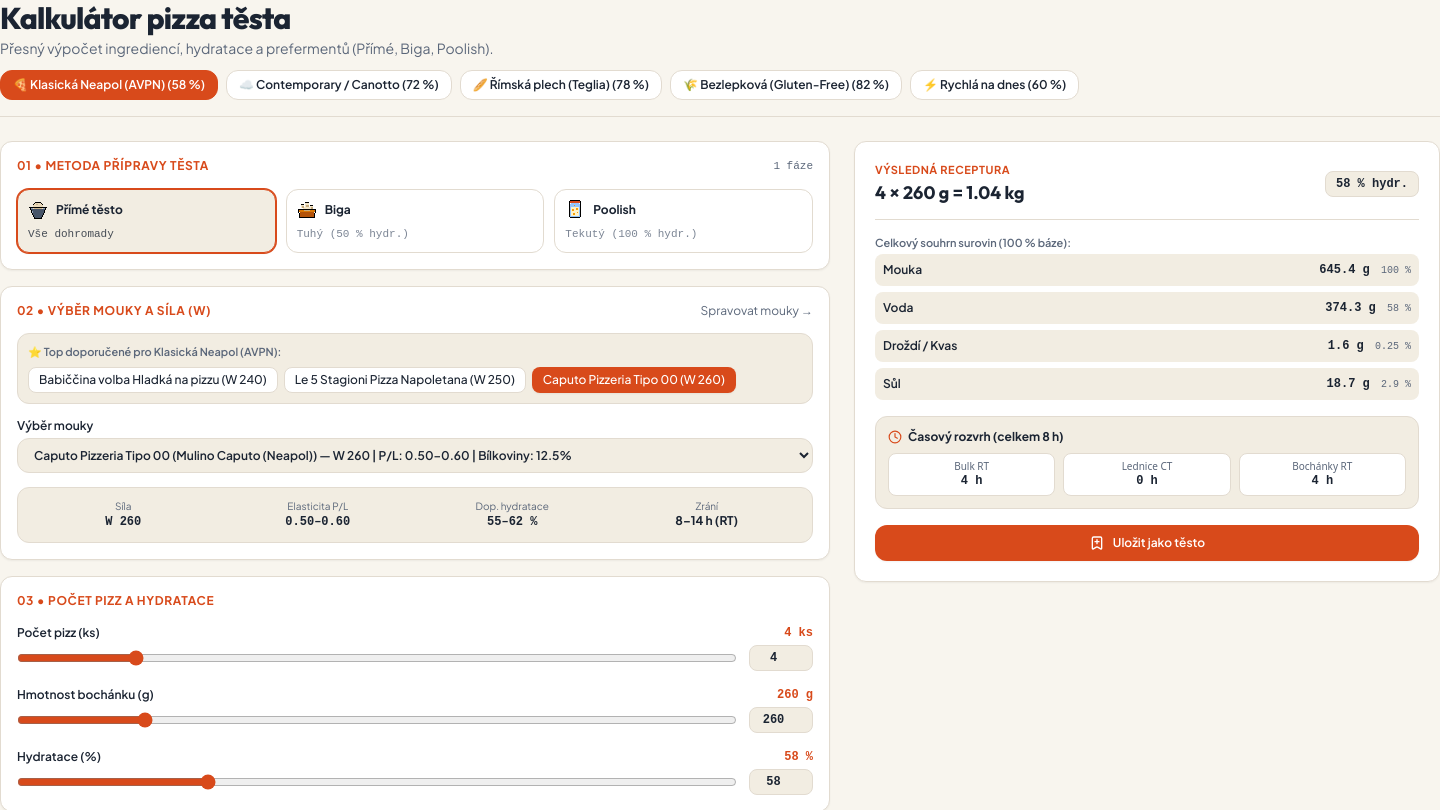
Test: CalculatorPage Component › renders method buttons and displays two-phase breakdown when Biga is selected
# Switch to Biga
Click the text "Biga": (338, 210) [325,202,351,218]
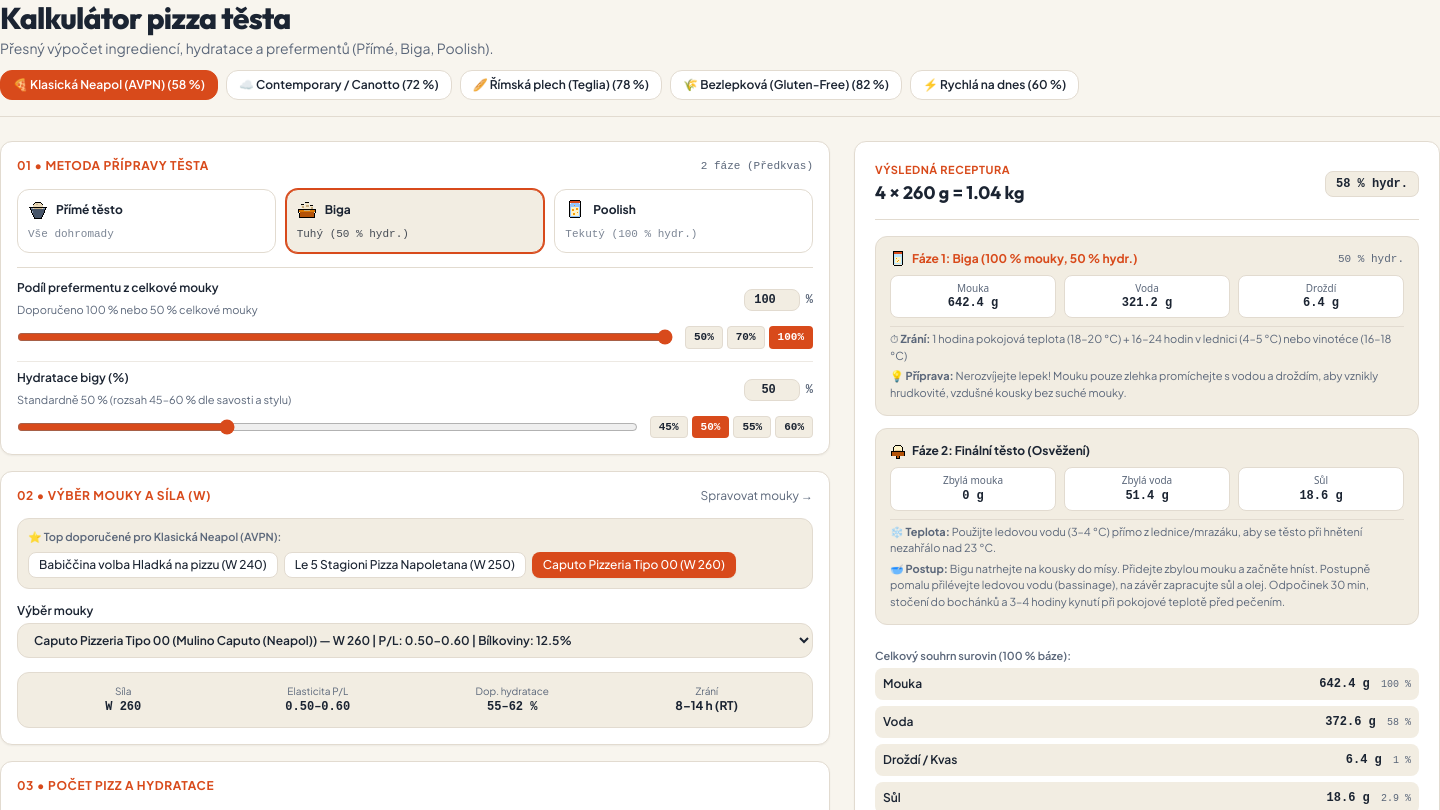
expect the text "Fáze 1: Biga (100 % mouky, 50 % hydr.)" is shown: met, box [912,251,1138,267]
expect the text "Fáze 2: Finální těsto (Osvěžení)" is shown: met, box [912,443,1090,459]
